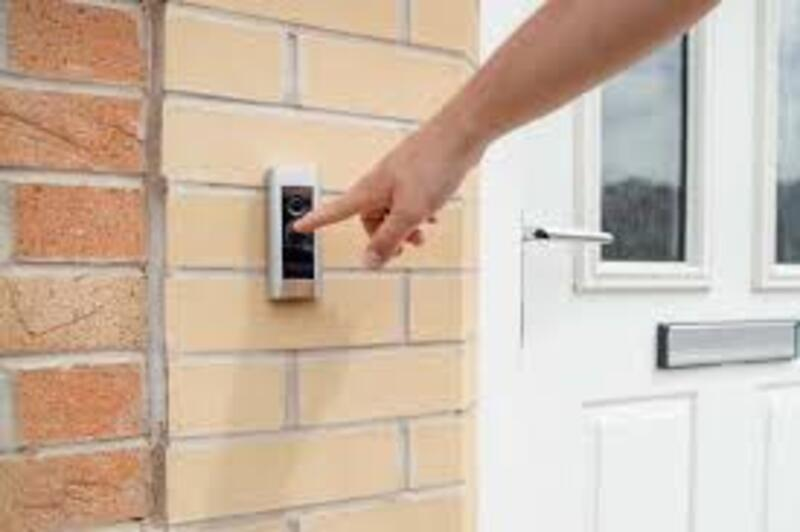doorbell: (256, 151, 328, 316)
